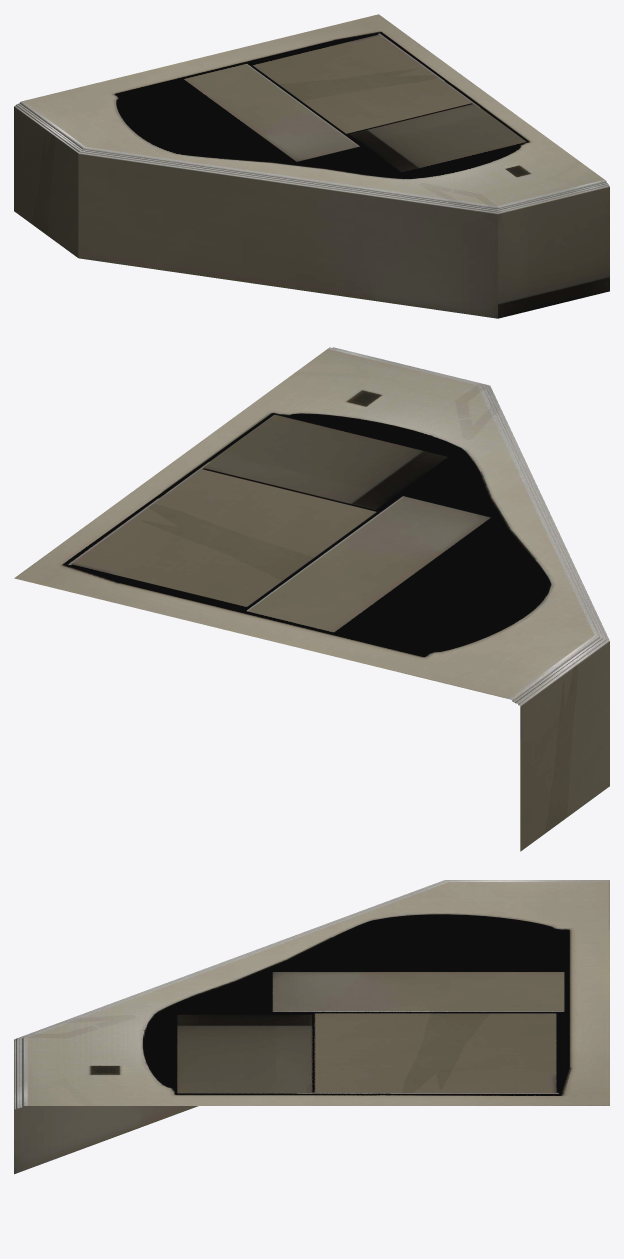
File: 2014_WSJ_JJ_17.FBX
3 views of the same model, one above another, from view 1: azimuth 30°, elevation 25°; view 2: azimuth 150°, elevation 25°; view 3: azimuth 270°, elevation 25° (orthographic). The views are drawn at different scales.
Parts seen in each view (by area): view 1: 2014_WSJ_JJ_17; view 2: 2014_WSJ_JJ_17; view 3: 2014_WSJ_JJ_17.
Part boxes in pixels (left/top/right/bottom): 2014_WSJ_JJ_17: left=14, top=14, right=609, bottom=318; 2014_WSJ_JJ_17: left=14, top=347, right=609, bottom=851; 2014_WSJ_JJ_17: left=14, top=880, right=609, bottom=1174.
Size of the model in its own units: 1.59 by 0.45 by 1.75.
